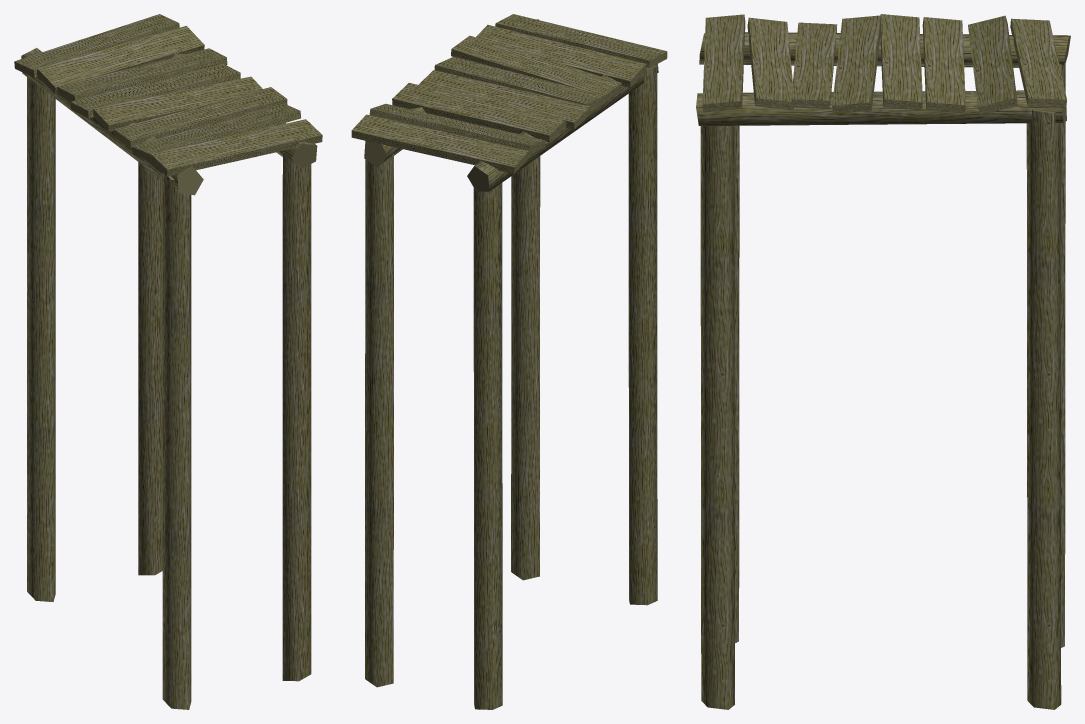
Rendered from jetty01.obj.
3 renders of one model, left to right at view 1: azimuth 30°, elevation 25°; view 2: azimuth 150°, elevation 25°; view 3: azimuth 270°, elevation 25°, orthographic. The views are drawn at different scales.
Visible parts, largest first — view 1: Duplicate03, Duplicate02, Duplicate01, Duplicate10, Duplicate04, Duplicate08, Duplicate07, Duplicate05, Duplicate09, Box01, Duplicate06, Cylinder02; view 2: Duplicate03, Duplicate01, Duplicate02, Box01, Duplicate05, Duplicate08, Duplicate09, Duplicate06, Duplicate10, Duplicate07, Duplicate04, Cylinder02; view 3: Duplicate01, Duplicate02, Duplicate03, Cylinder02, Duplicate07, Duplicate10, Duplicate05, Duplicate06, Duplicate04, Box01, Duplicate09, Duplicate08.
Part boxes in pixels (x1=…): Duplicate03: x1=21, y1=48, x2=203, y2=709; Duplicate02: x1=282, y1=152, x2=311, y2=681; Duplicate01: x1=138, y1=162, x2=162, y2=575; Duplicate10: x1=150, y1=119, x2=322, y2=176; Duplicate04: x1=36, y1=26, x2=204, y2=93; Duplicate08: x1=114, y1=87, x2=287, y2=148; Duplicate07: x1=93, y1=76, x2=262, y2=131; Duplicate05: x1=57, y1=48, x2=227, y2=101; Duplicate09: x1=132, y1=103, x2=301, y2=161; Box01: x1=14, y1=14, x2=179, y2=77; Duplicate06: x1=70, y1=63, x2=240, y2=118; Cylinder02: x1=172, y1=53, x2=317, y2=168; Duplicate03: x1=467, y1=64, x2=658, y2=709; Duplicate01: x1=365, y1=153, x2=393, y2=687; Duplicate02: x1=511, y1=156, x2=540, y2=580; Box01: x1=351, y1=114, x2=528, y2=173; Duplicate05: x1=392, y1=83, x2=566, y2=142; Duplicate08: x1=451, y1=35, x2=621, y2=102; Duplicate09: x1=476, y1=24, x2=646, y2=87; Duplicate06: x1=418, y1=70, x2=591, y2=129; Duplicate10: x1=495, y1=14, x2=667, y2=67; Duplicate07: x1=434, y1=56, x2=604, y2=108; Duplicate04: x1=369, y1=103, x2=545, y2=153; Cylinder02: x1=364, y1=19, x2=538, y2=168; Duplicate01: x1=1026, y1=109, x2=1061, y2=709; Duplicate02: x1=700, y1=125, x2=734, y2=709; Duplicate03: x1=699, y1=32, x2=1070, y2=647; Cylinder02: x1=696, y1=90, x2=1066, y2=125; Duplicate07: x1=832, y1=15, x2=880, y2=113; Duplicate10: x1=702, y1=14, x2=745, y2=112; Duplicate05: x1=922, y1=17, x2=965, y2=113; Duplicate06: x1=880, y1=14, x2=922, y2=110; Duplicate04: x1=968, y1=15, x2=1017, y2=114; Box01: x1=1010, y1=18, x2=1066, y2=108; Duplicate09: x1=747, y1=17, x2=793, y2=110; Duplicate08: x1=791, y1=22, x2=837, y2=109.
Bounding box in the file's own units: 48.96 × 160 × 87.38.
